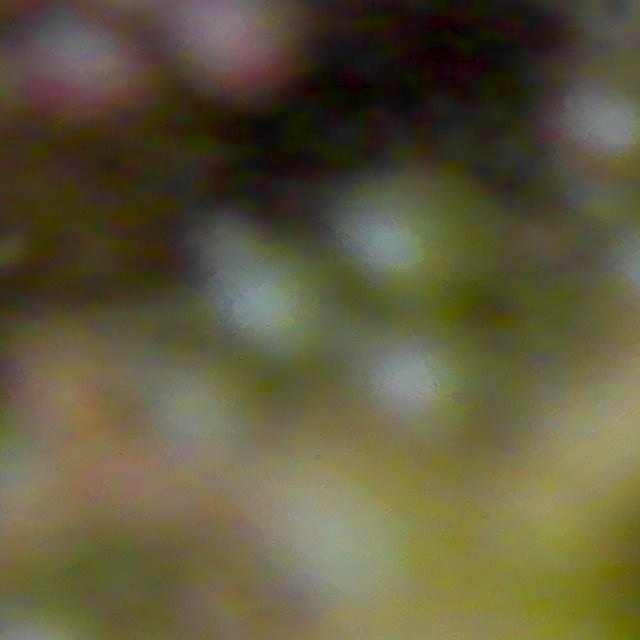SeaGrape: (333, 171, 463, 304), (210, 244, 327, 364), (34, 17, 141, 121), (178, 0, 298, 91), (362, 336, 463, 426)
